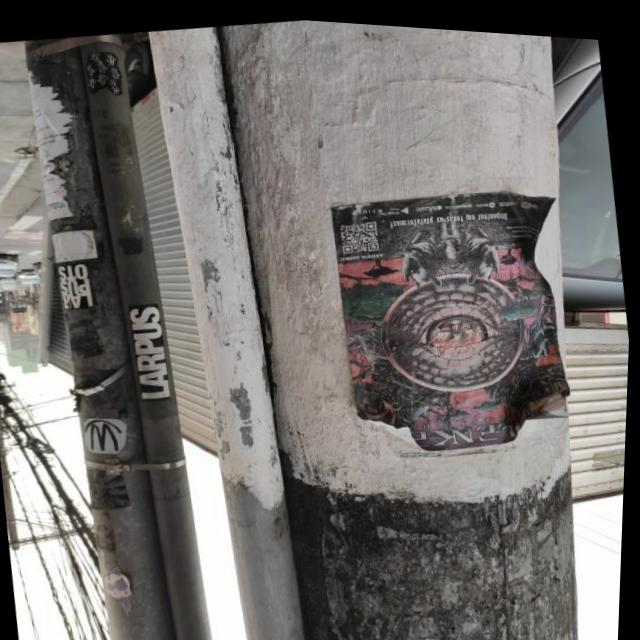qrcode: (341, 214, 382, 250)
